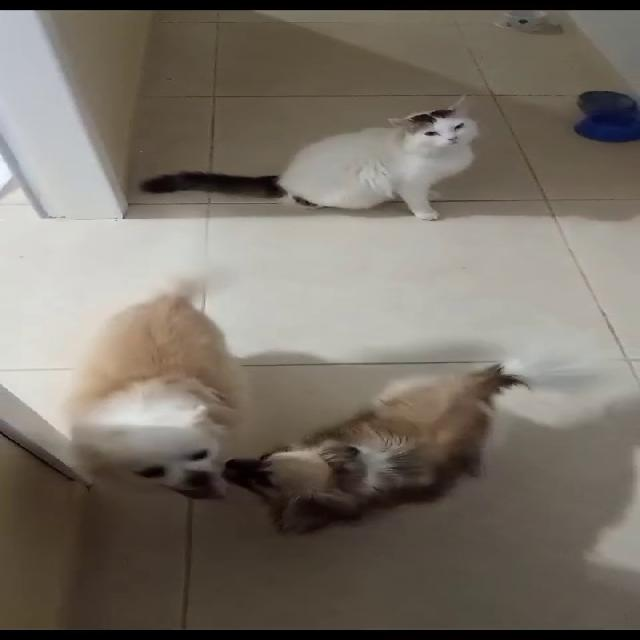Pedrita: (193, 299, 520, 558)
Simba: (263, 56, 550, 272)
Theo: (61, 257, 271, 496)
